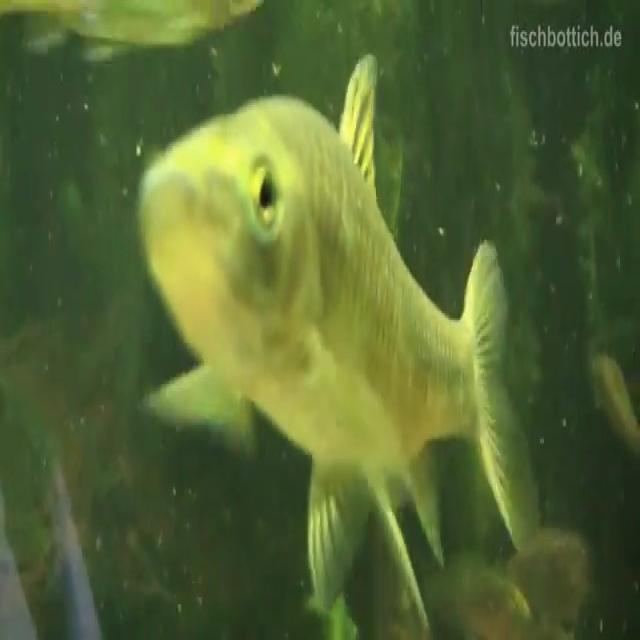Cakil Baligi: (127, 45, 546, 610)
